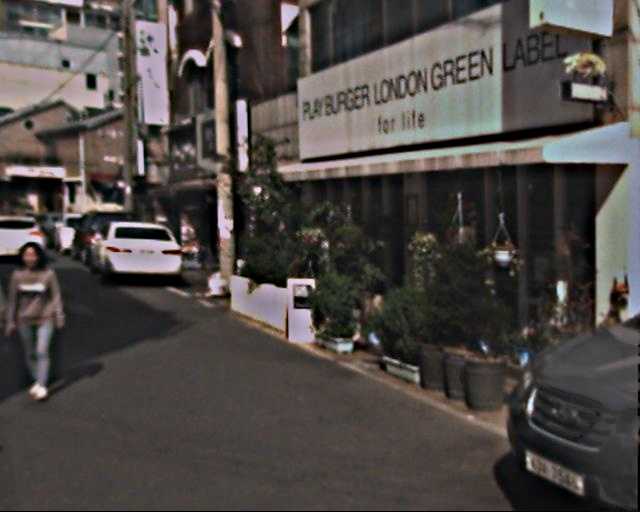person: (1, 238, 77, 401)
